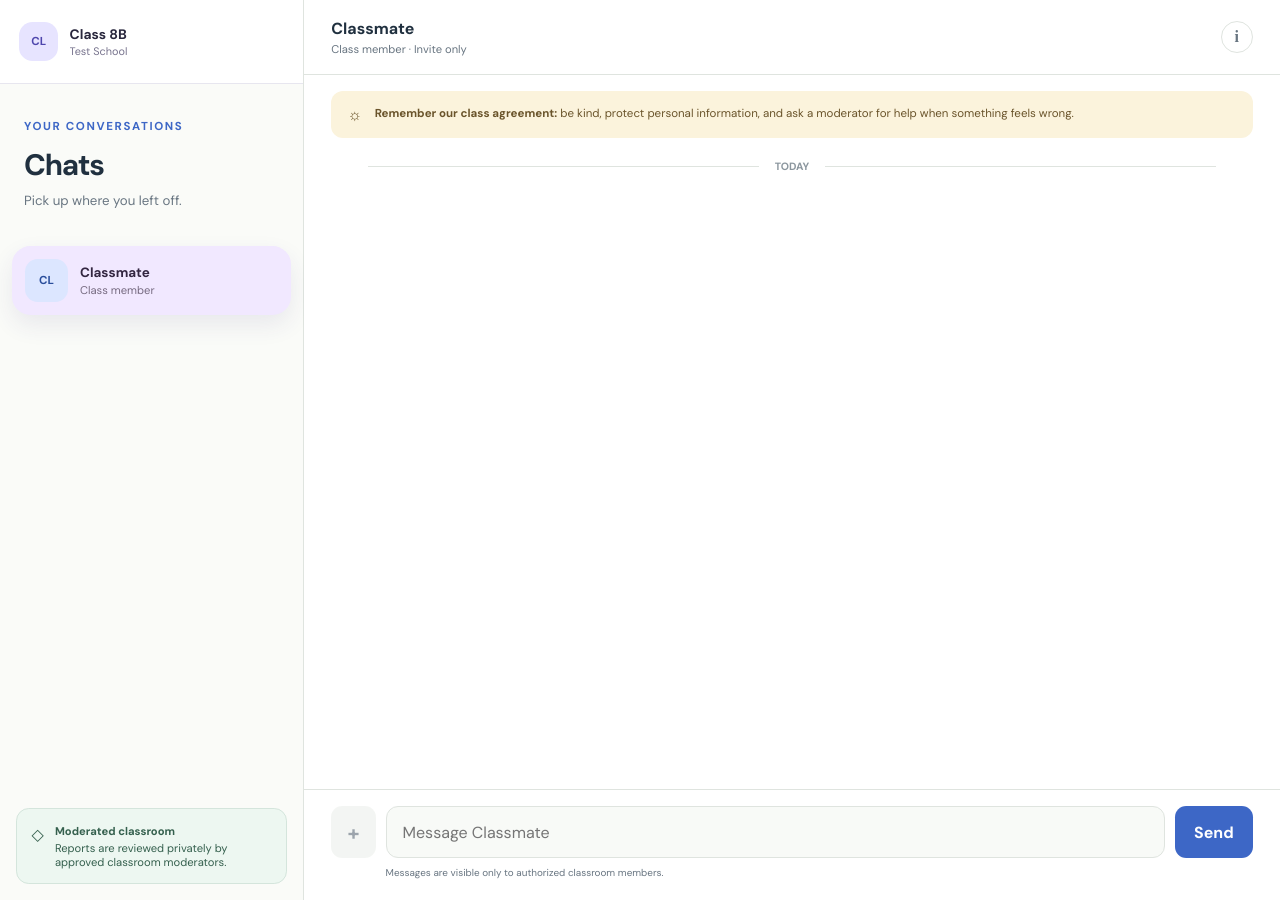
Test case: message composer reliability › replaces raw Safari network errors with a regulated composer alert
The width and height of the screenshot is (1280, 900).
In the field: (775, 832) [386,806,1165,858], type "Hello"
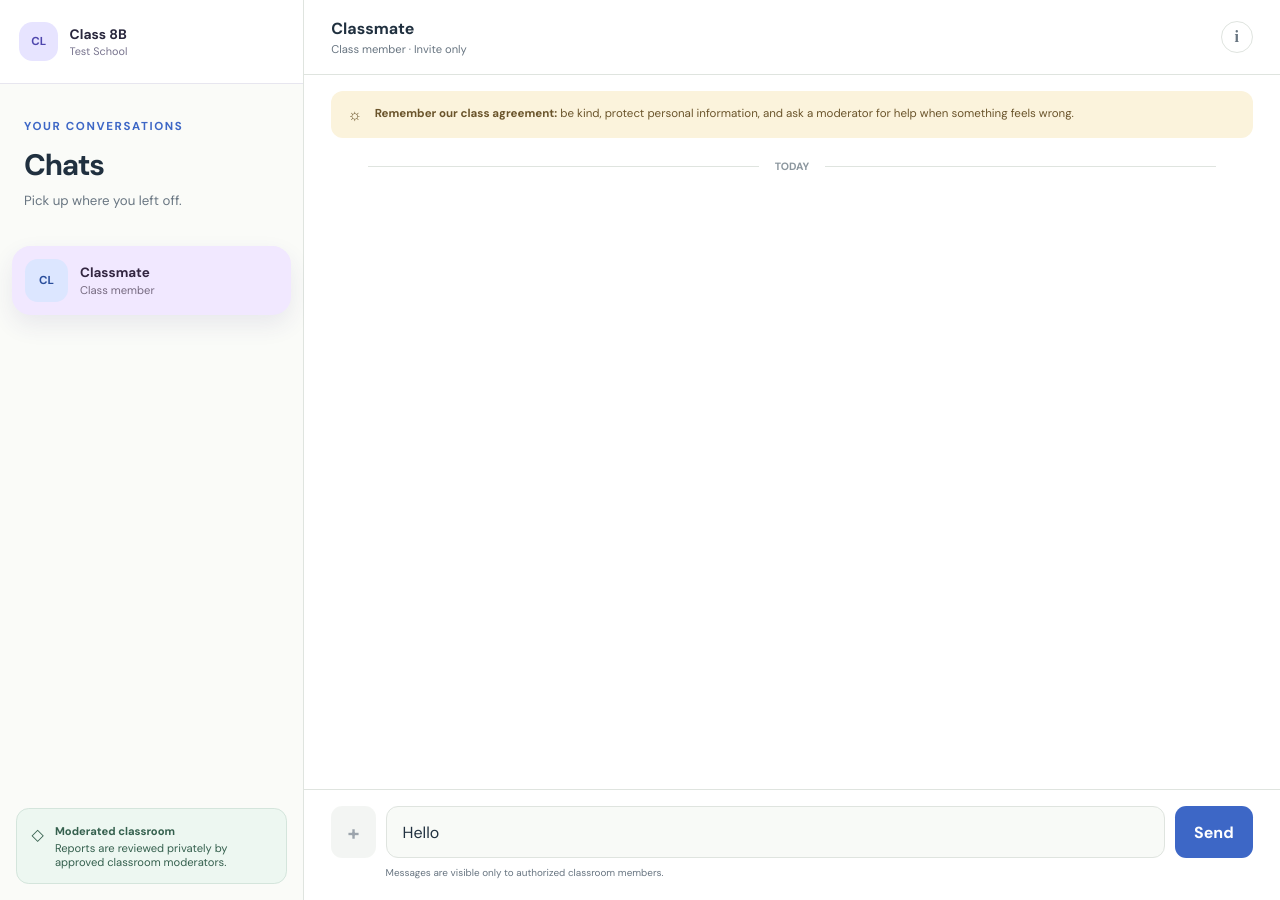
Submit the form, box [304,789,1279,899]
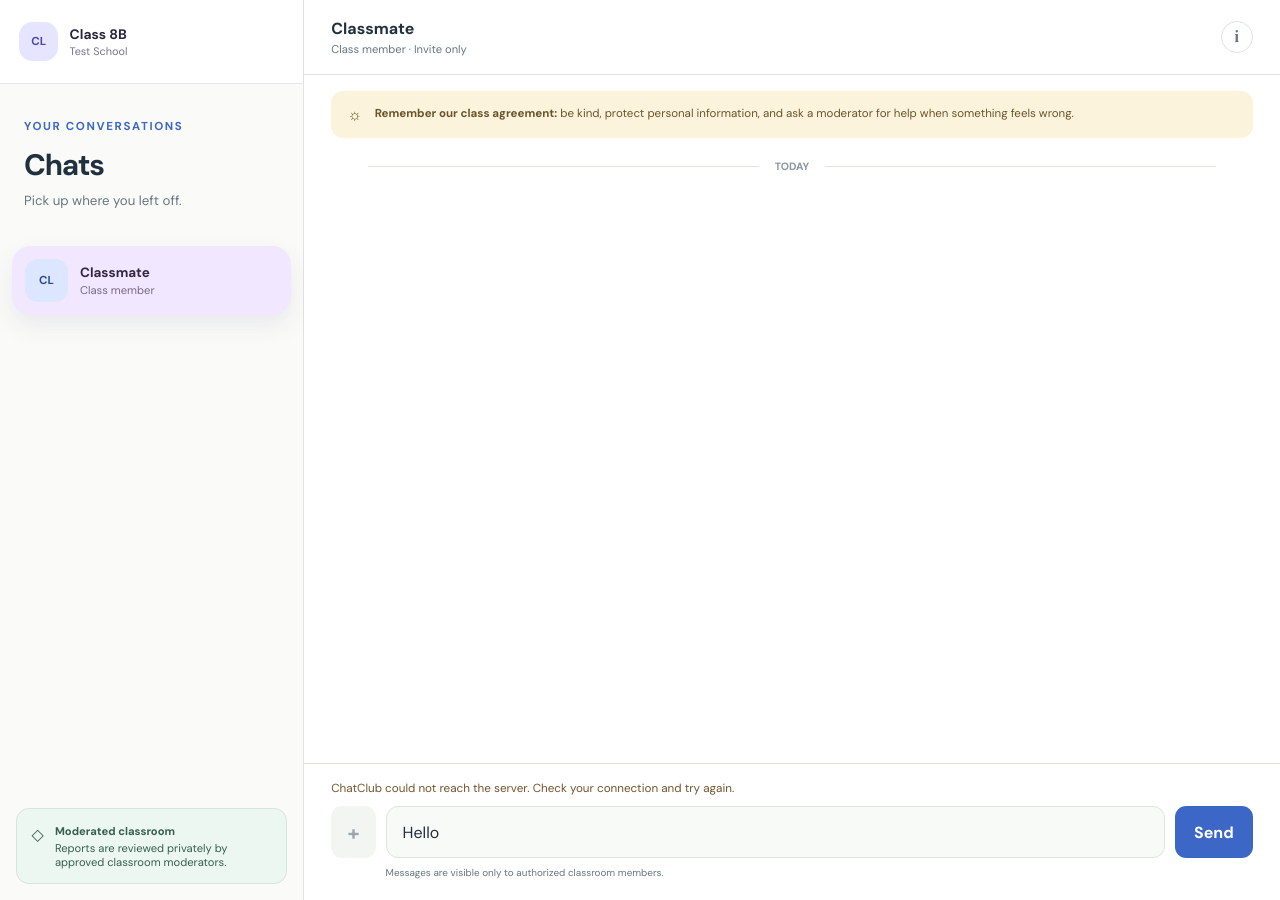
Expected: the text "reports are reviewed privately by approved classroom moderators" is shown, [55,841,228,869]
Expected: the message reads "ChatClub could not reach the server. Check your connection and try again.", [331,780,734,796]
